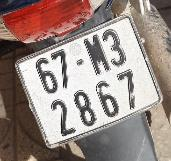2: (47, 98, 81, 145)
3: (94, 25, 125, 72)
6: (89, 75, 123, 122), (28, 57, 60, 101)
7: (107, 61, 143, 113), (42, 49, 75, 97)
8: (69, 85, 100, 135)
M: (74, 31, 110, 79)
